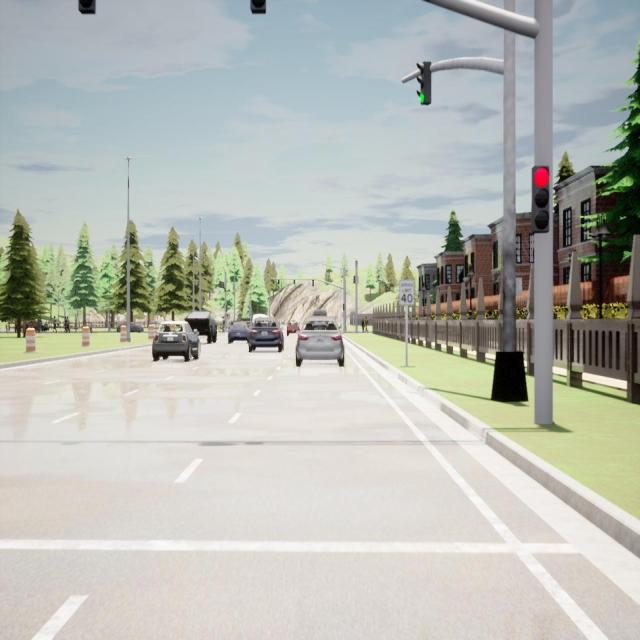Pedestrian: (365, 316, 369, 334), (64, 316, 68, 333), (66, 316, 70, 333), (53, 316, 57, 332), (37, 318, 41, 332), (222, 317, 225, 333), (89, 322, 93, 333), (362, 319, 364, 333)
Traffic_Signs: (399, 280, 415, 306)
Vehicle: (296, 316, 344, 368), (153, 322, 201, 361), (249, 316, 284, 352), (184, 311, 217, 343), (228, 322, 249, 344), (116, 322, 144, 332), (287, 319, 300, 336), (27, 321, 47, 331), (314, 310, 326, 316)
traffic_light: (532, 166, 549, 233), (416, 62, 432, 105), (78, 0, 95, 14), (250, 0, 266, 13), (278, 279, 280, 287), (294, 279, 296, 287), (353, 276, 355, 283), (312, 280, 314, 286), (343, 304, 344, 310)
